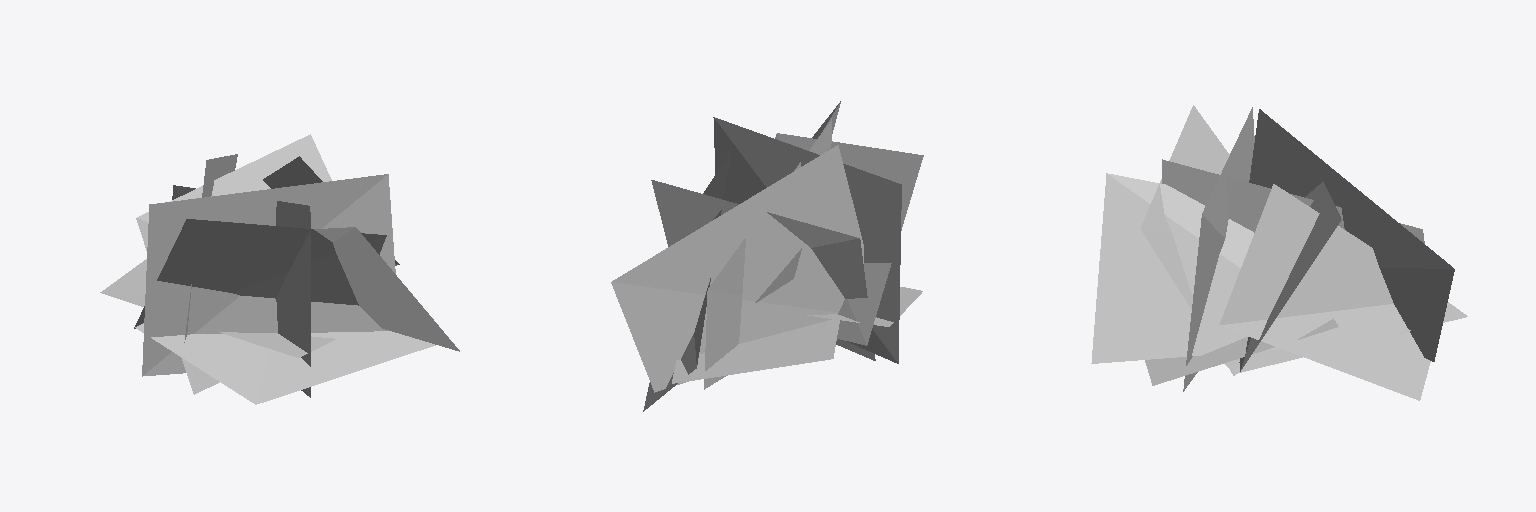
File: BushMed2.obj
The picture shows the model from 3 angles: view 1: azimuth 30°, elevation 25°; view 2: azimuth 150°, elevation 25°; view 3: azimuth 270°, elevation 25°; orthographic projection.
Visible parts, largest first — view 1: BushMed2_bushbig.008; view 2: BushMed2_bushbig.008; view 3: BushMed2_bushbig.008.
Boxes of the visible parts, box(x1,y1,x2,y2) form: BushMed2_bushbig.008: box(100, 134, 459, 404); BushMed2_bushbig.008: box(611, 101, 923, 411); BushMed2_bushbig.008: box(1091, 105, 1467, 400).
Size of the model in its own units: 1.67 by 1.55 by 2.23.